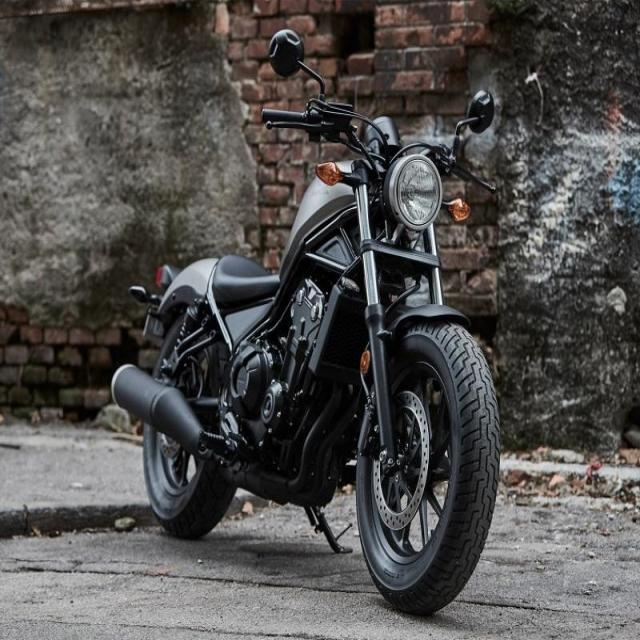Motorcycle: (110, 92, 500, 614)
